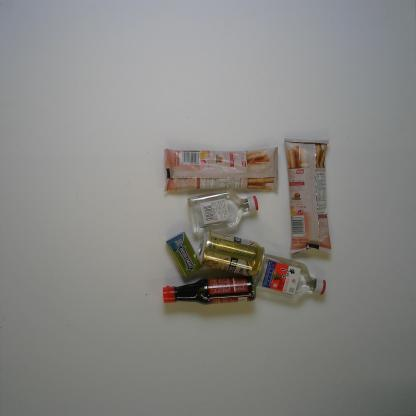Alcohol: (196, 229, 266, 279), (255, 252, 326, 300), (187, 189, 260, 234)
Dessert: (284, 136, 333, 256), (163, 146, 280, 193)
Gum: (165, 231, 202, 278)
Seasoner: (161, 275, 257, 306)
